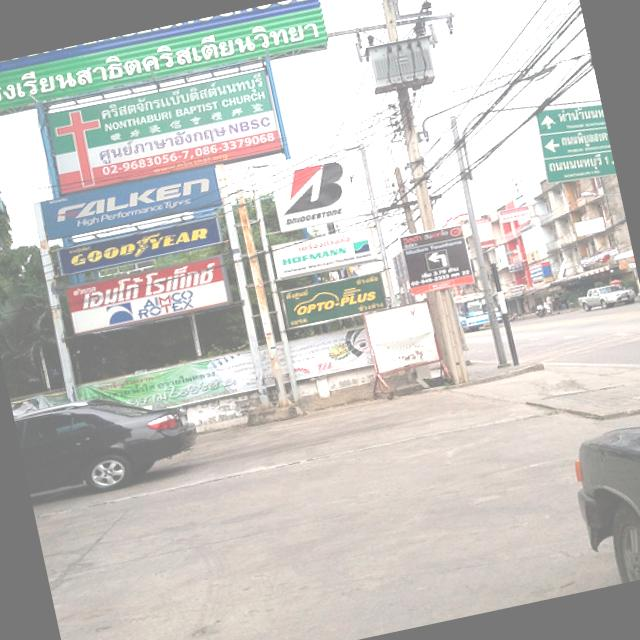Vehicle: (13, 379, 206, 511), (559, 388, 640, 588), (452, 288, 504, 334), (576, 278, 638, 315), (532, 300, 554, 318)
